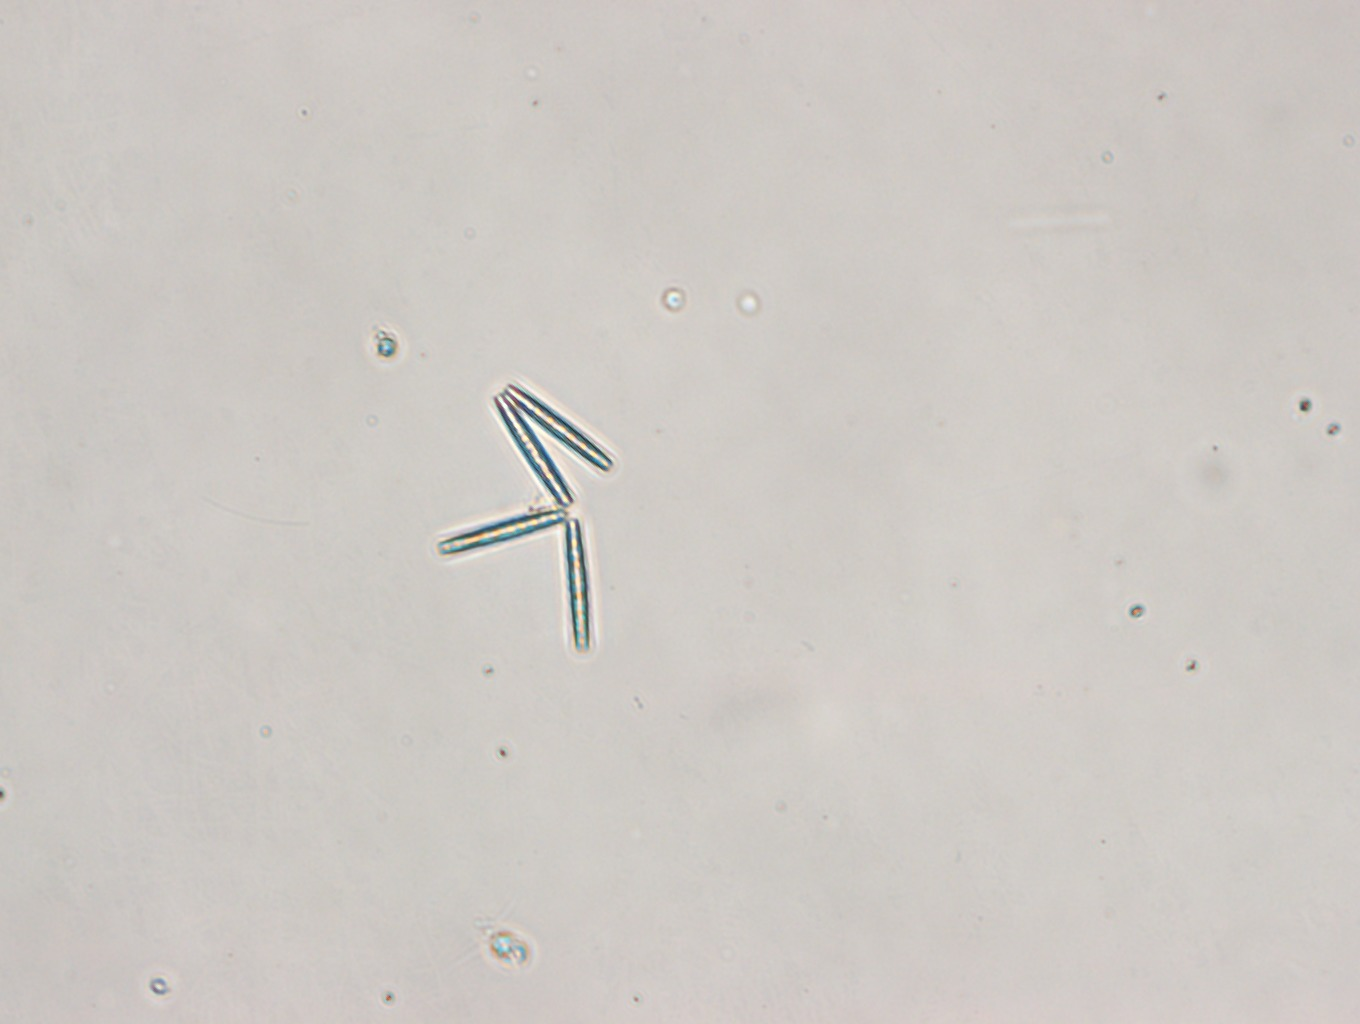thalassionema nitzschioides: (434, 382, 612, 650)
